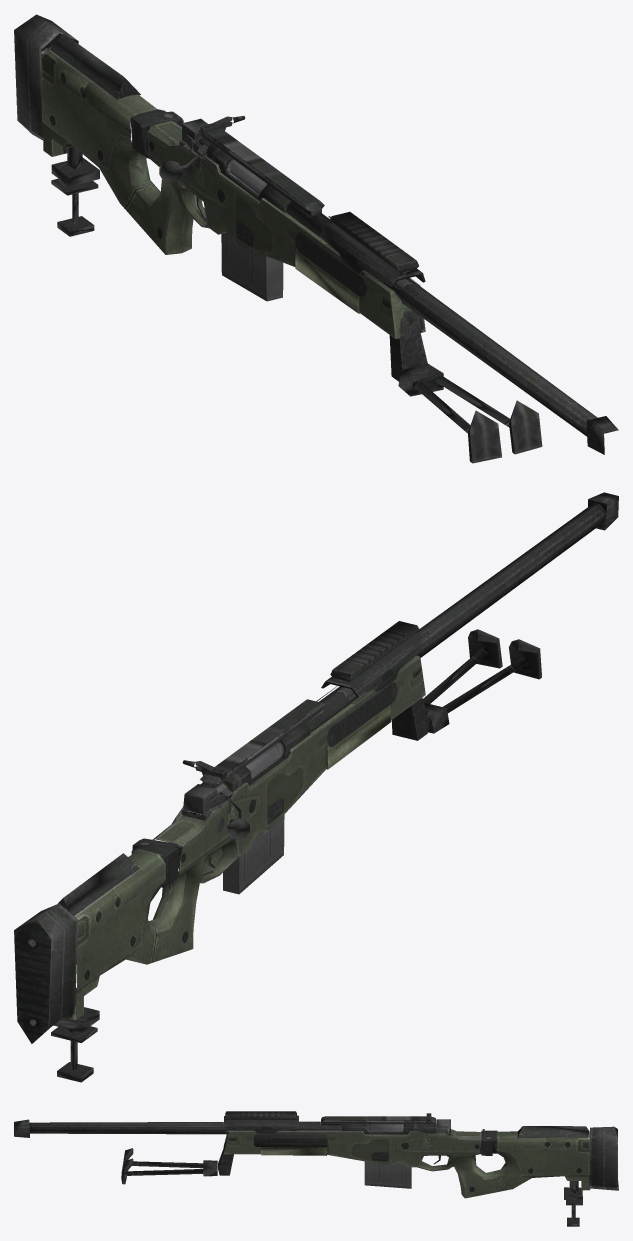
The model's file is Sniper_Rifle_jjq_02_lod1_Body_LOD_(000322).glb.
The picture shows the model from 3 angles, top to bottom: view 1: azimuth 30°, elevation 25°; view 2: azimuth 150°, elevation 25°; view 3: azimuth 270°, elevation 25°; orthographic projection. The views are drawn at different scales.
Visible parts, largest first — view 1: jjq_02_lod1; view 2: jjq_02_lod1; view 3: jjq_02_lod1.
Part boxes in pixels (left/top/right/bottom): jjq_02_lod1: left=14, top=14, right=618, bottom=463; jjq_02_lod1: left=14, top=492, right=618, bottom=1082; jjq_02_lod1: left=14, top=1111, right=618, bottom=1226.
Bounding box in the file's own units: 0.1416 × 0.3592 × 1.8.
1 material, 1 textured.
